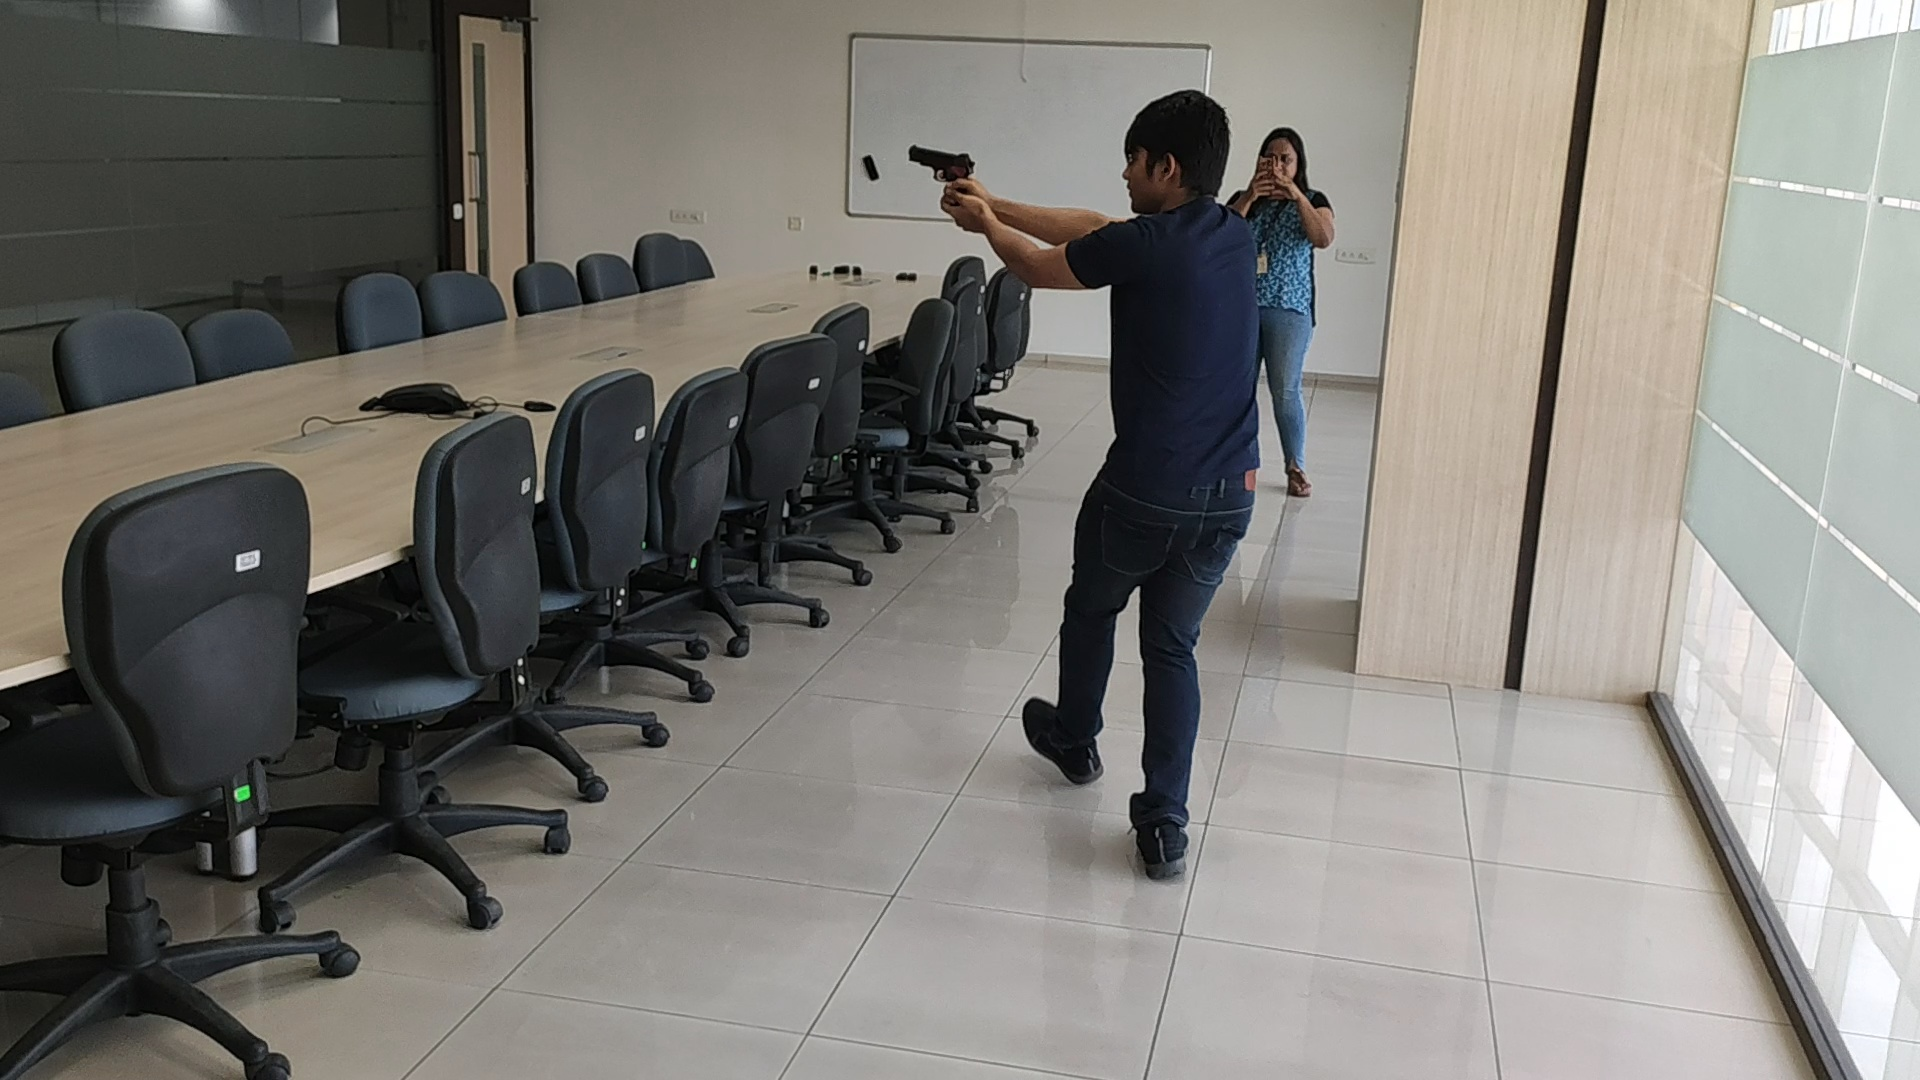gun: (906, 142, 975, 193)
